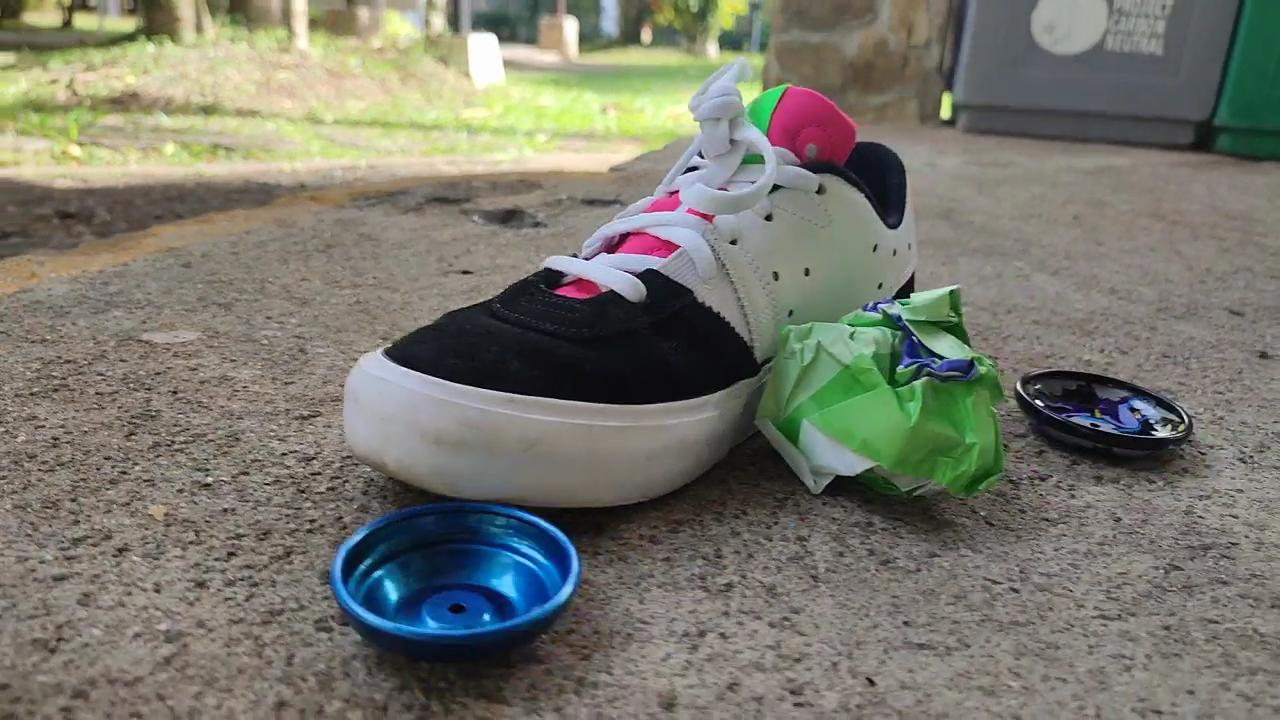Paper: (745, 271, 1020, 510)
